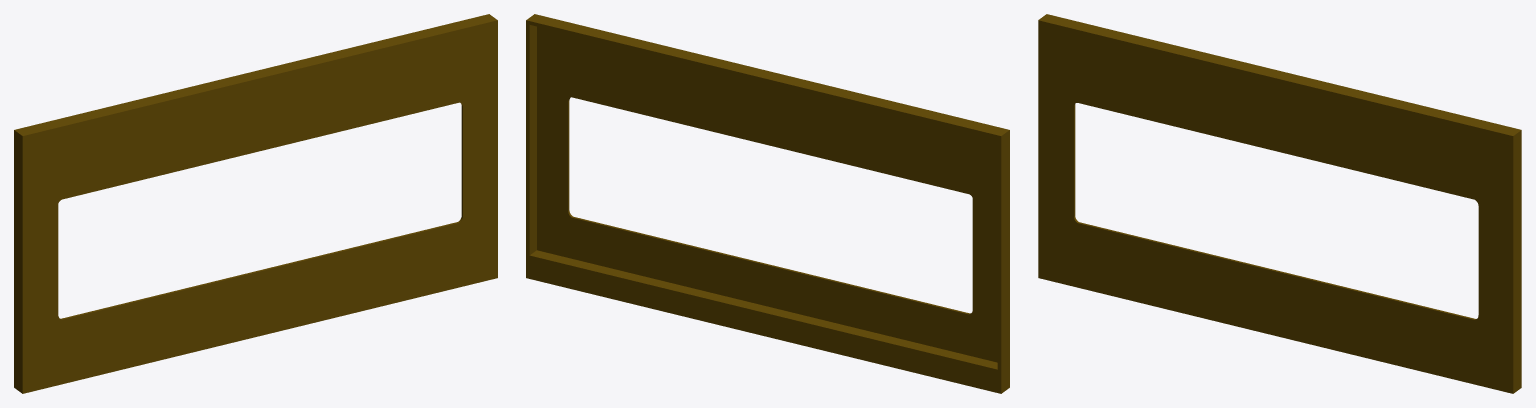
The model's file is original-3.obj.
3 views of the same model, side by side, from view 1: azimuth 30°, elevation 25°; view 2: azimuth 150°, elevation 25°; view 3: azimuth 330°, elevation 25° (orthographic).
Visible parts, largest first — view 1: Group3/mesh5/mesh5-geometry#mesh5-geometry; view 2: Group3/mesh5/mesh5-geometry#mesh5-geometry; view 3: Group3/mesh5/mesh5-geometry#mesh5-geometry.
Boxes of the visible parts, x1,y1,x2,y2 form: Group3/mesh5/mesh5-geometry#mesh5-geometry: (14, 14, 497, 393); Group3/mesh5/mesh5-geometry#mesh5-geometry: (526, 14, 1009, 393); Group3/mesh5/mesh5-geometry#mesh5-geometry: (1038, 14, 1521, 393).
Bounding box in the file's own units: 1.32 × 0.682 × 0.041.
